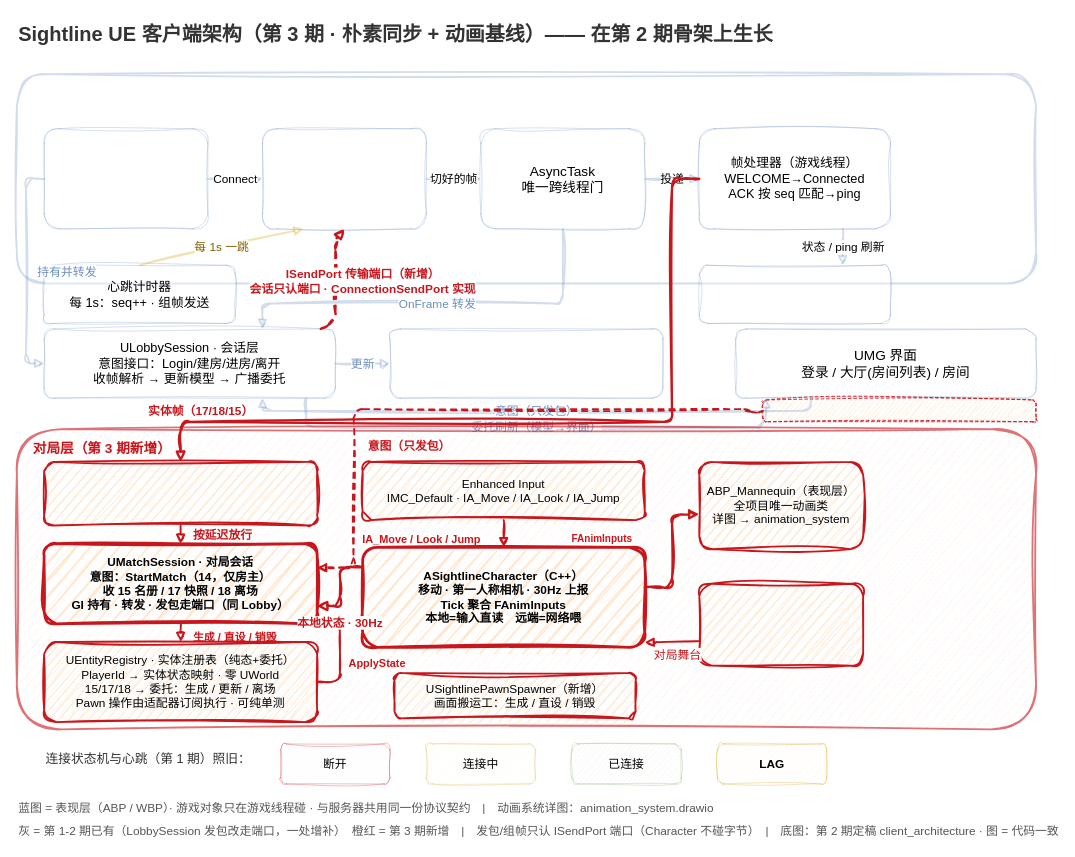
Some shapes in this 1075 by 857 pixel diagram are drawn without their labels. The centre of each missing label's shape, as x and y in pixels:
FLobbyModel · 实体 登录态 · PlayerId · 房间列表 · 当前房间: (x=526, y=363)
GameInstance 管连接生死 （切关卡不死）: (x=125, y=178)
GameMode_Sightline + L_Arena 关卡 4 出生点: (x=781, y=624)
HUD 状态 · ping · seq: (x=794, y=294)
损伤滑块（演示基建首登场） 入站延迟队列 0~500ms 延迟放行 · 不丢包: (x=180, y=493)
接收线程 FRunnable 只搬字节: (x=344, y=178)
＋房主：开始对局按钮（意图 14 · 只发包）: (x=899, y=410)
